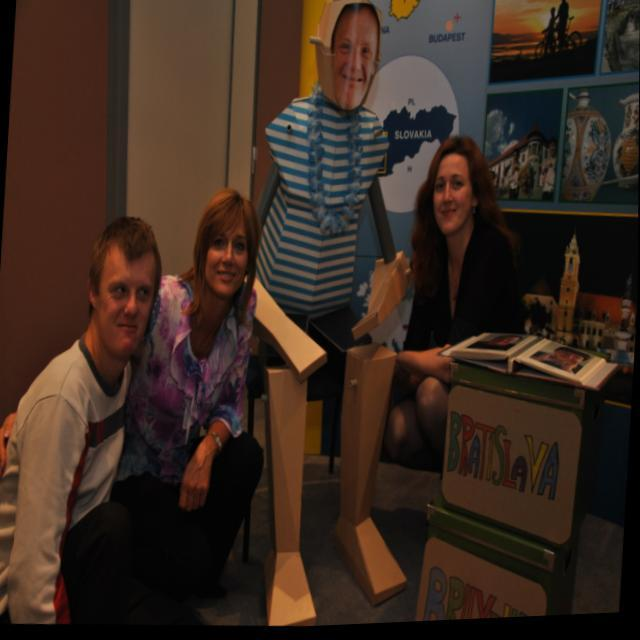Nonhelmet: (77, 210, 169, 356), (184, 179, 266, 308), (412, 125, 491, 242)
